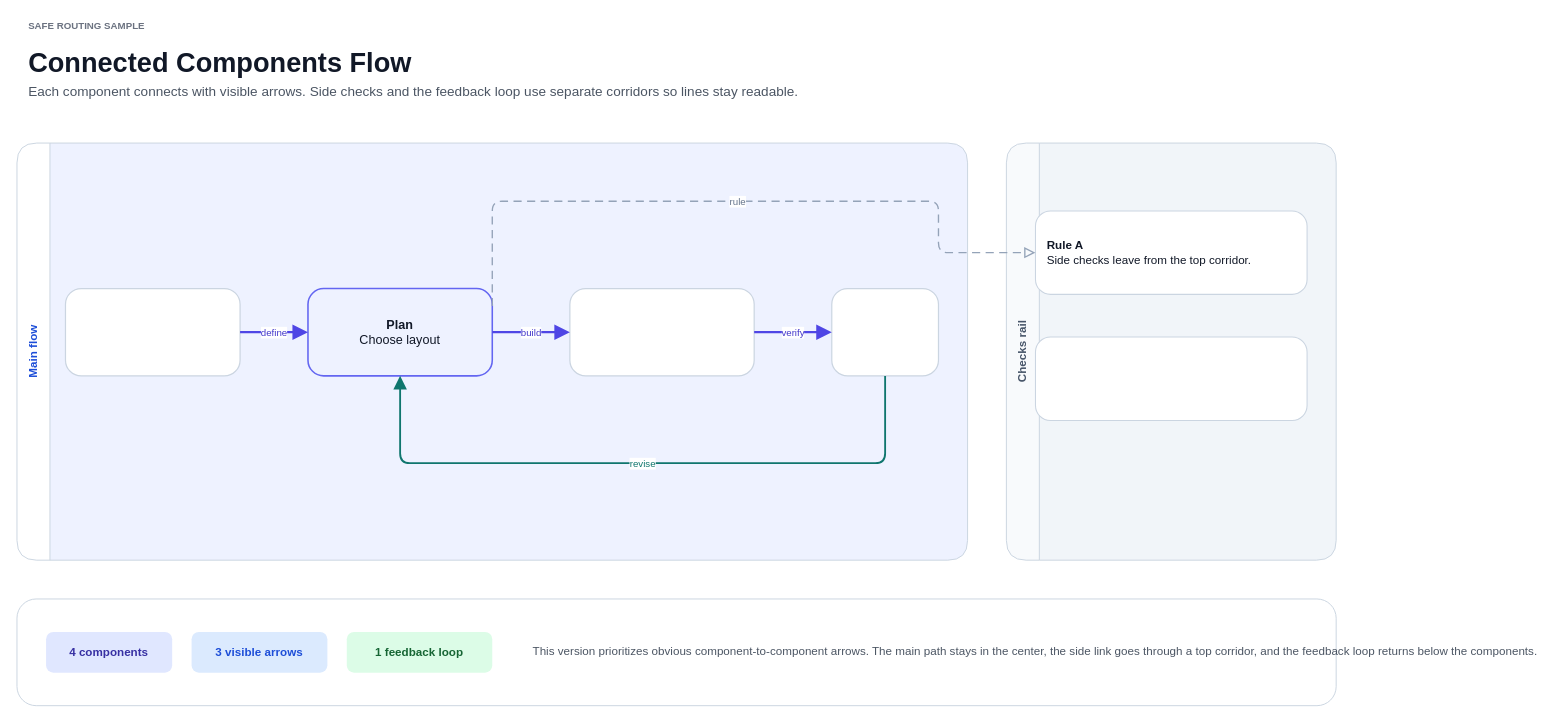
The diagram is 1555 pixels wide and 723 high, and some of its shapes have lost their labels. Here are the shapes that lost their labels. From the top down, the centre of each, then its label:
[152,332]: Capture Brief and constraints
[661,332]: Assemble Build components
[885,332]: Verify Check edges
[1171,378]: Rule B Return loops use the bottom corridor.
